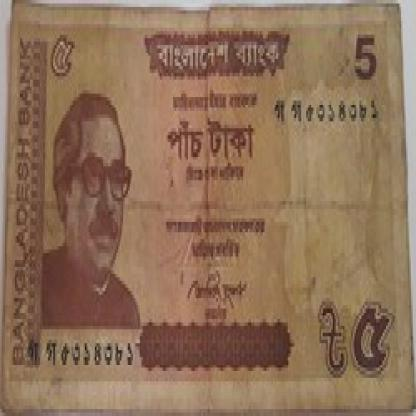Five Taka: (346, 291, 393, 378), (42, 21, 82, 94), (348, 24, 379, 87)
